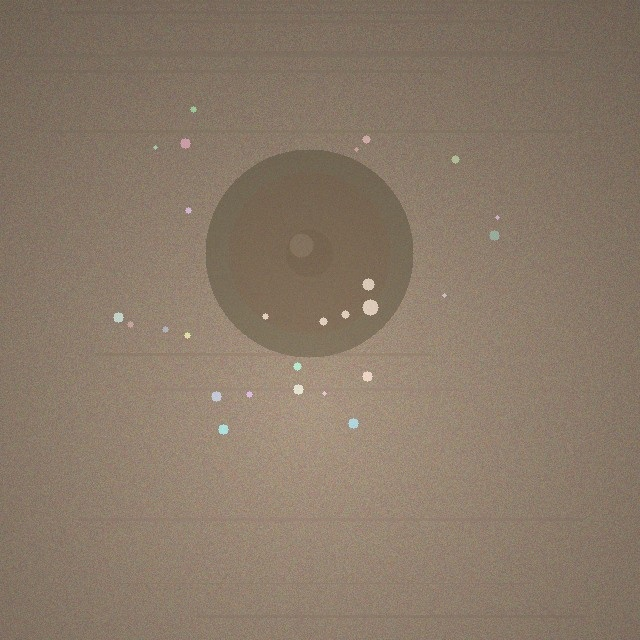overburn: (205, 149, 413, 357)
